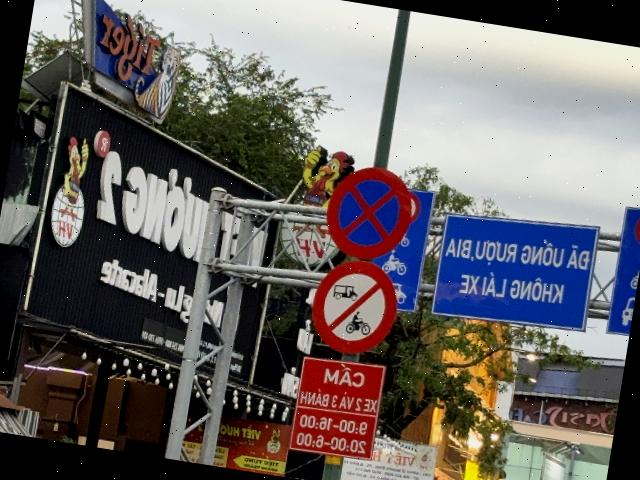cam-dung-va-do-xe: (320, 160, 418, 266)
cam-xe-2-banh-3-banh: (306, 253, 403, 360)
toc-do-toi-da-cho-phep: (631, 209, 640, 248)
